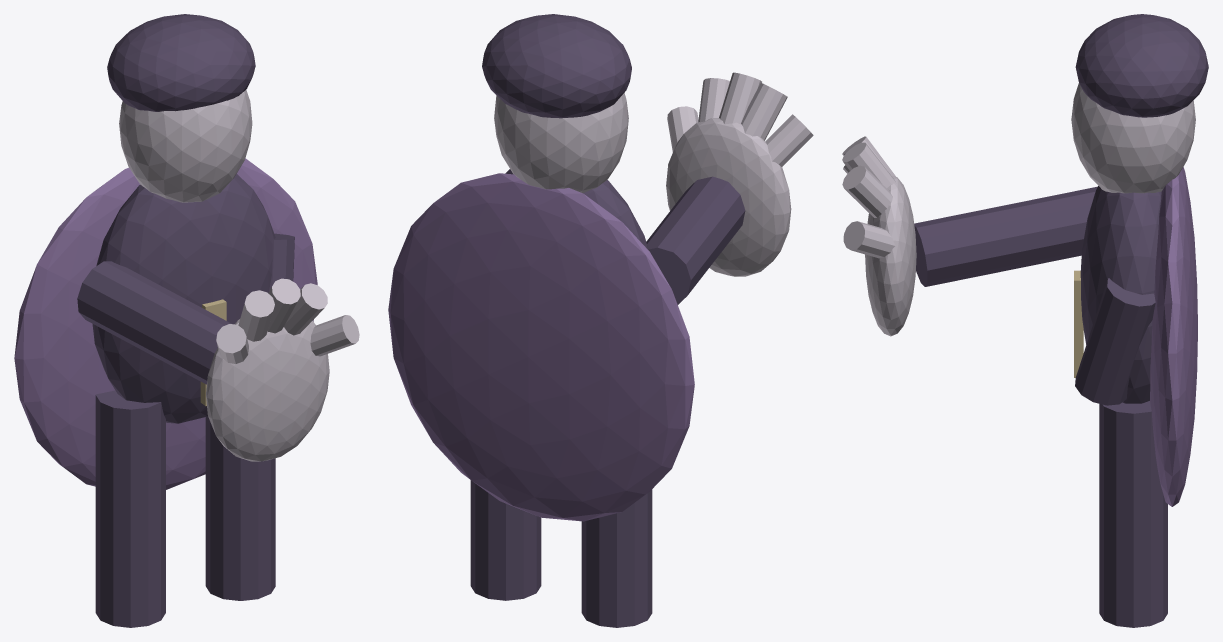
The model's file is character.glb.
3 renders of one model, left to right at view 1: azimuth 30°, elevation 25°; view 2: azimuth 150°, elevation 25°; view 3: azimuth 270°, elevation 25°, orthographic. The views are drawn at different scales.
Parts seen in each view (by area): view 1: cape, torso, leg0, open_palm, hair, head, leg1, forward_arm, finger4, finger1, finger3, finger2 (+3 smaller); view 2: cape, hair, open_palm, head, leg0, forward_arm, leg1, finger1, finger0, finger2, torso, finger3 (+1 smaller); view 3: leg1, cape, forward_arm, hair, torso, head, pocket_arm, open_palm, finger3, finger4, finger2, coat_trim.
Boxes of the visible parts, <box> form: cape: <box>14,158,317,489</box>; torso: <box>92,174,275,423</box>; leg0: <box>95,390,165,627</box>; open_palm: <box>206,319,329,461</box>; hair: <box>107,14,255,111</box>; head: <box>119,90,252,202</box>; leg1: <box>205,416,275,600</box>; forward_arm: <box>77,261,231,384</box>; finger4: <box>310,315,359,356</box>; finger1: <box>238,290,274,341</box>; finger3: <box>284,283,327,335</box>; finger2: <box>267,278,300,333</box>; cape: <box>388,173,694,521</box>; hair: <box>482,14,631,118</box>; open_palm: <box>666,118,791,276</box>; head: <box>494,93,628,193</box>; leg0: <box>581,489,652,627</box>; forward_arm: <box>646,176,745,304</box>; leg1: <box>470,480,541,600</box>; finger1: <box>741,83,787,140</box>; finger0: <box>765,114,813,166</box>; finger2: <box>719,72,761,124</box>; torso: <box>505,169,647,248</box>; finger3: <box>698,78,729,122</box>; leg1: <box>1099,401,1167,627</box>; cape: <box>1150,167,1197,506</box>; forward_arm: <box>914,186,1097,286</box>; hair: <box>1075,14,1208,117</box>; torso: <box>1080,186,1161,403</box>; head: <box>1071,83,1195,193</box>; pocket_arm: <box>1075,278,1155,405</box>; open_palm: <box>865,175,916,336</box>; finger3: <box>842,165,892,217</box>; finger4: <box>843,221,895,258</box>; finger2: <box>842,142,896,187</box>; coat_trim: <box>1074,270,1083,377</box>.
Size of the model in its own units: 1.6 by 2.89 by 1.71.
